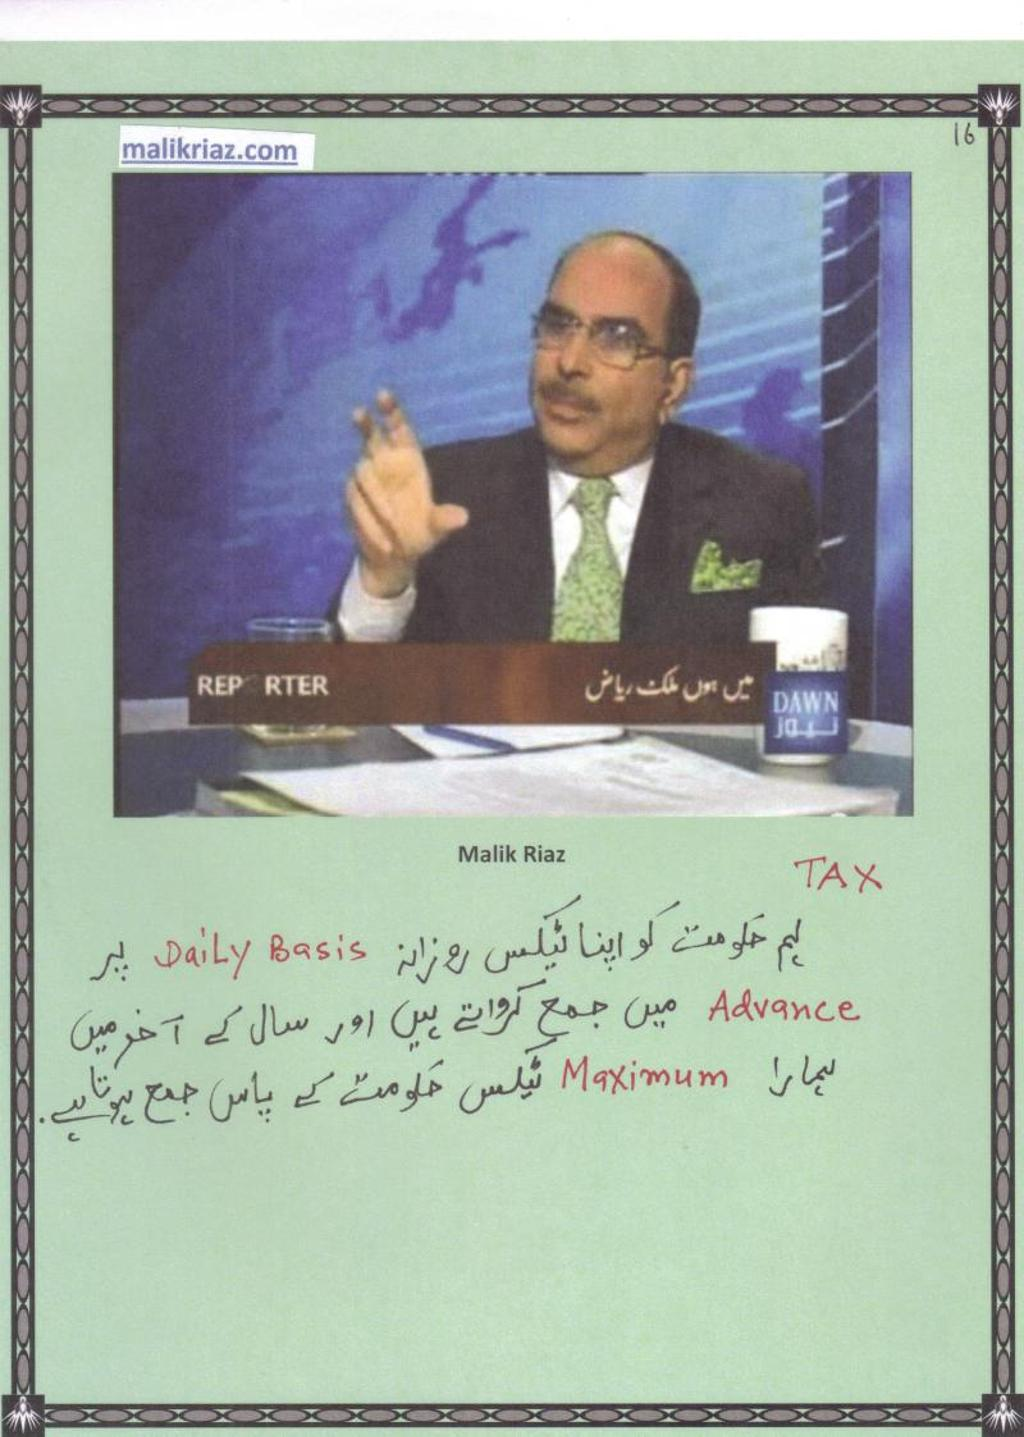face: (536, 255, 659, 449)
